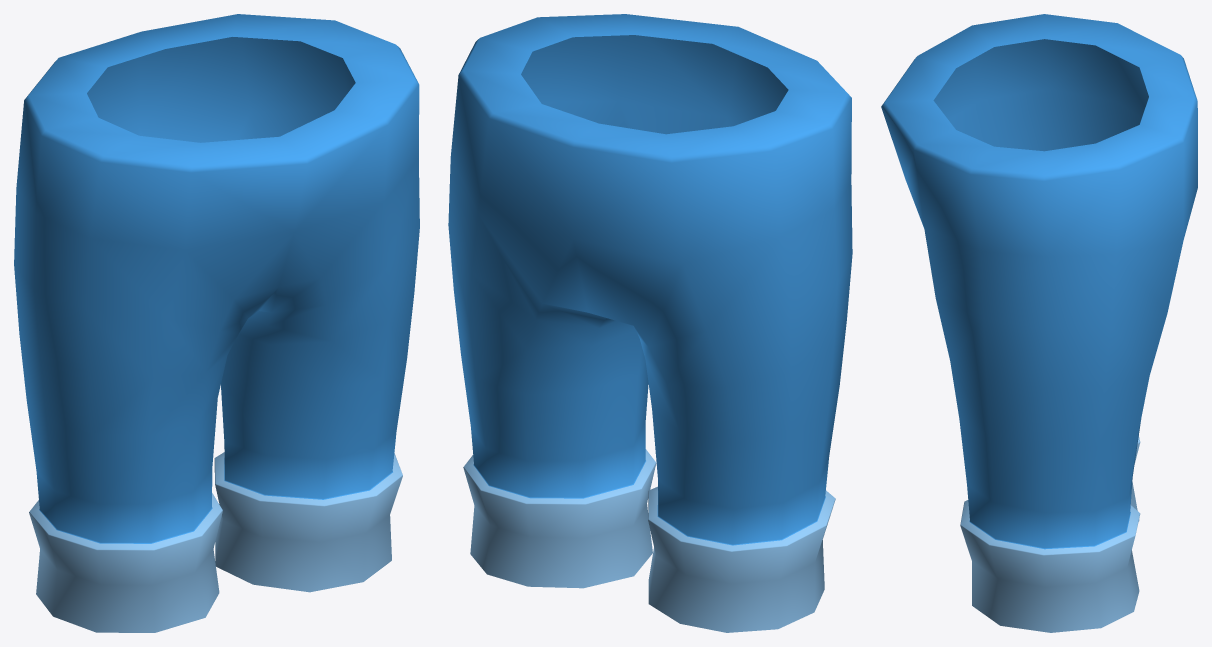
Rendered from Pants_Blue_003.glb.
3 views of the same model, side by side, from view 1: azimuth 30°, elevation 25°; view 2: azimuth 150°, elevation 25°; view 3: azimuth 270°, elevation 25° (orthographic). The views are drawn at different scales.
Visible parts, largest first — view 1: Pants_Blue_003; view 2: Pants_Blue_003; view 3: Pants_Blue_003.
Boxes of the visible parts, x1,y1,x2,y2 form: Pants_Blue_003: (14,14,419,632); Pants_Blue_003: (448,14,852,632); Pants_Blue_003: (881,14,1197,632).
Size of the model in its own units: 0.4529 by 0.5758 by 0.3561.
Materials: 1 (1 with a texture image).
